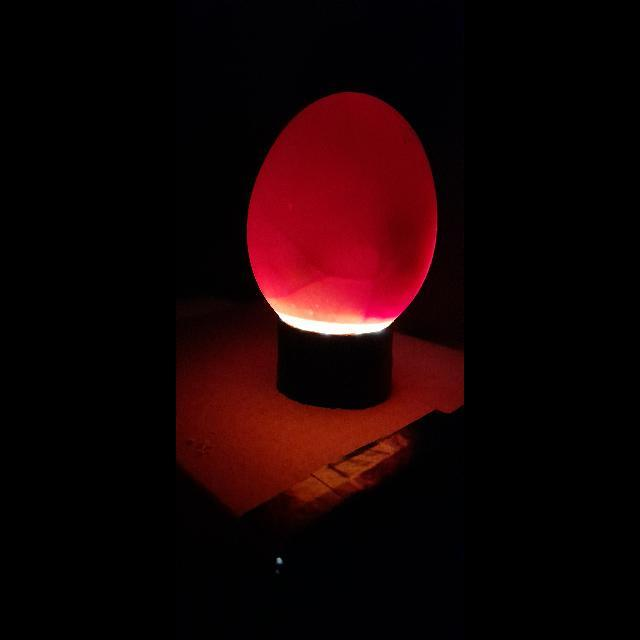Fertile: (245, 89, 443, 338)
